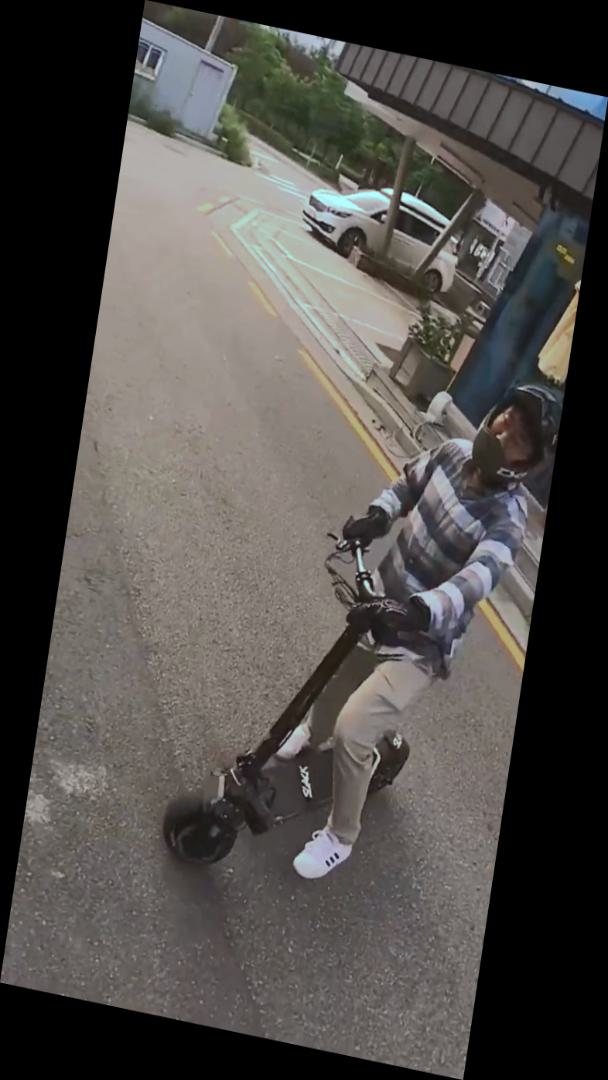helmet: (157, 319, 565, 932)
